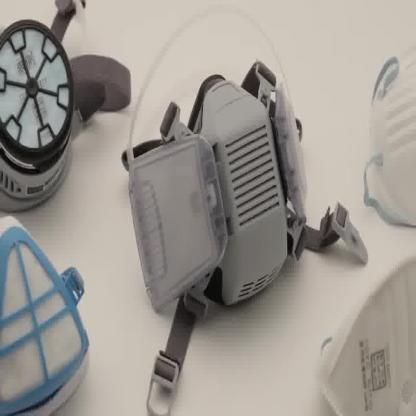mask: (118, 51, 372, 404), (0, 211, 91, 415), (322, 239, 415, 415), (0, 21, 79, 216), (363, 47, 415, 241)
